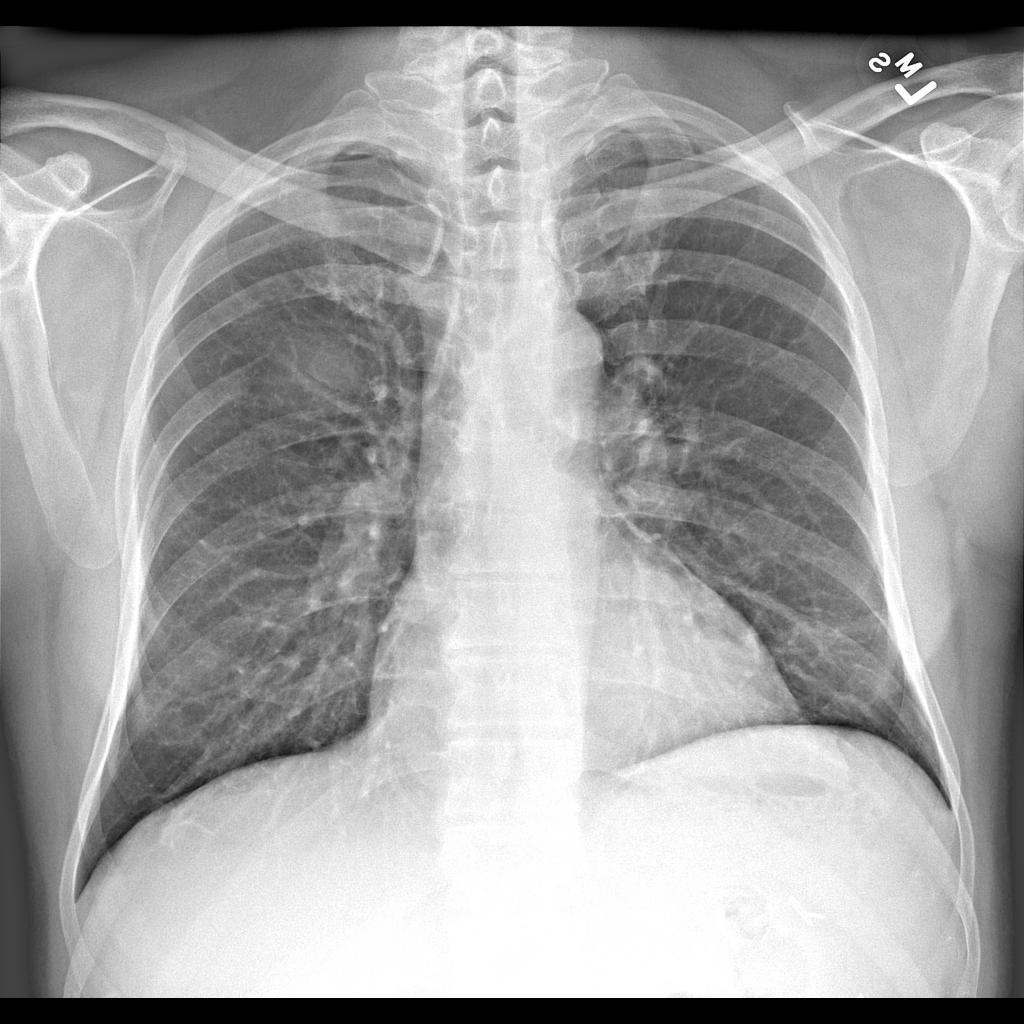Nodule: (246, 315, 372, 438)
